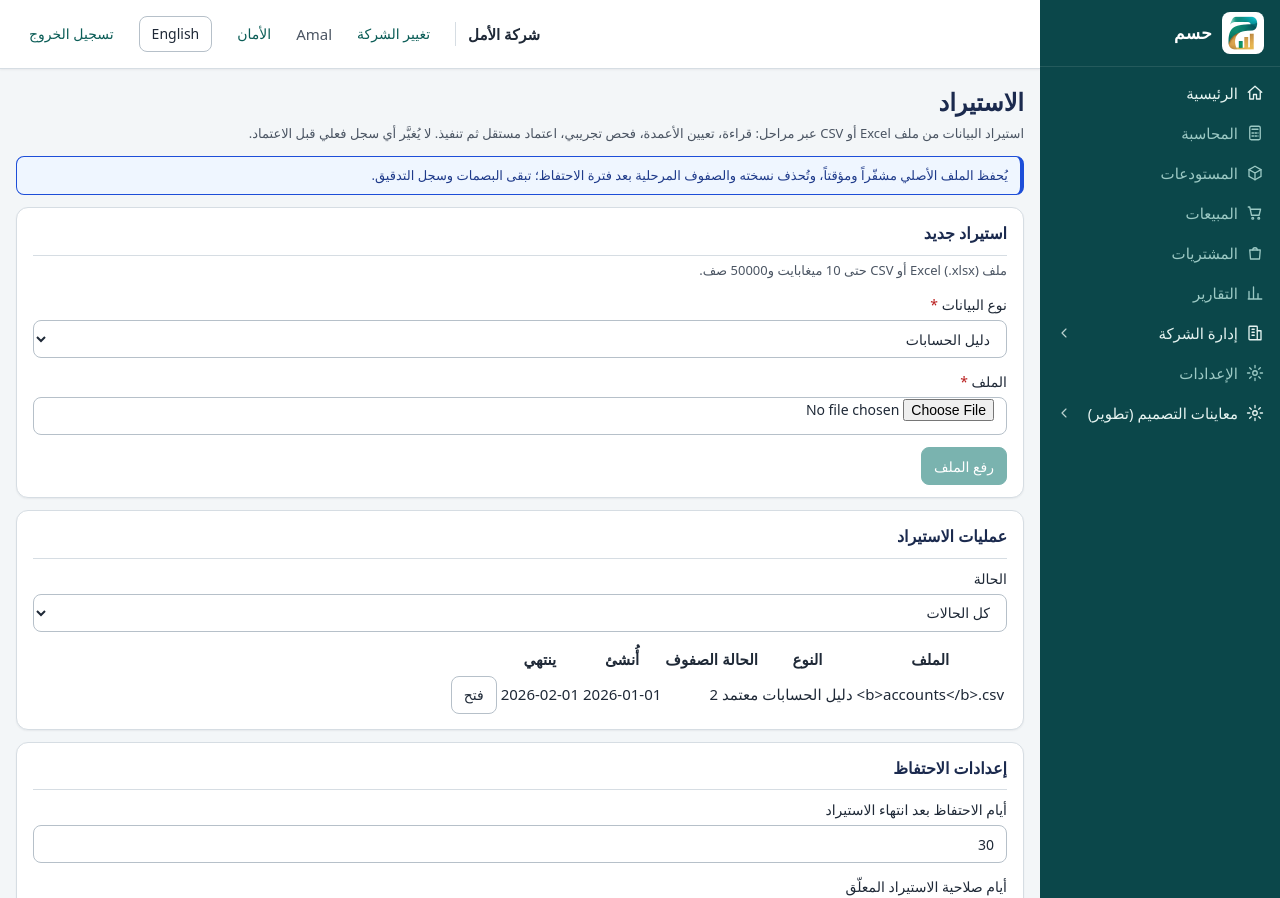
it: imports screen › a user without the apply permission never sees the apply button
Check: the element with test id "company-name" is shown, box [455,22,540,46]
Click the button "فتح". click: (474, 695)
box: [451,676,497,714]
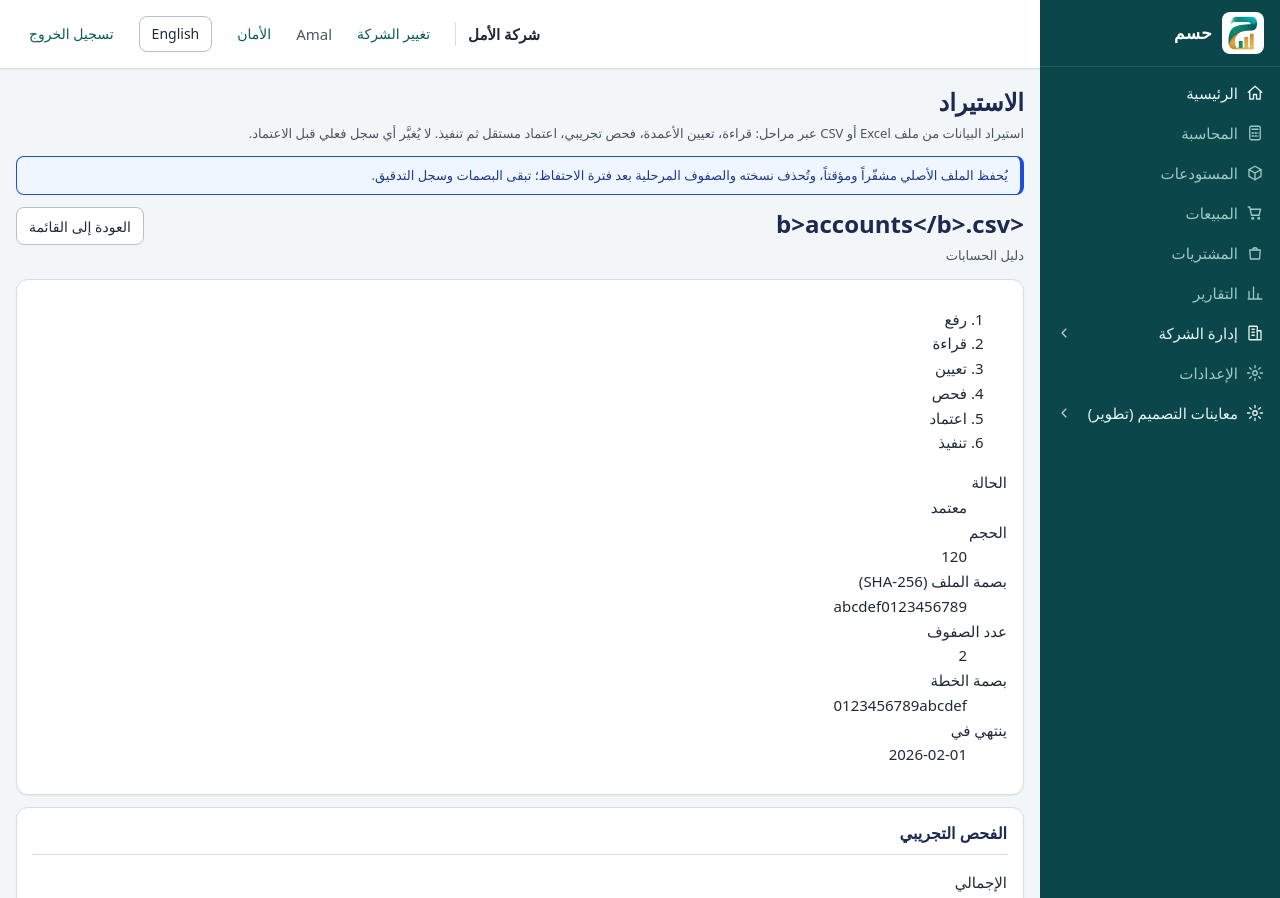
Check: the element with test id "imp-facts" is shown, box [834,472,1007,764]
